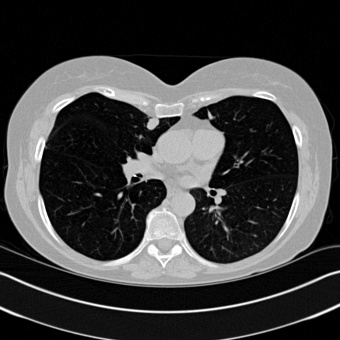PN: (146, 117, 158, 129)
